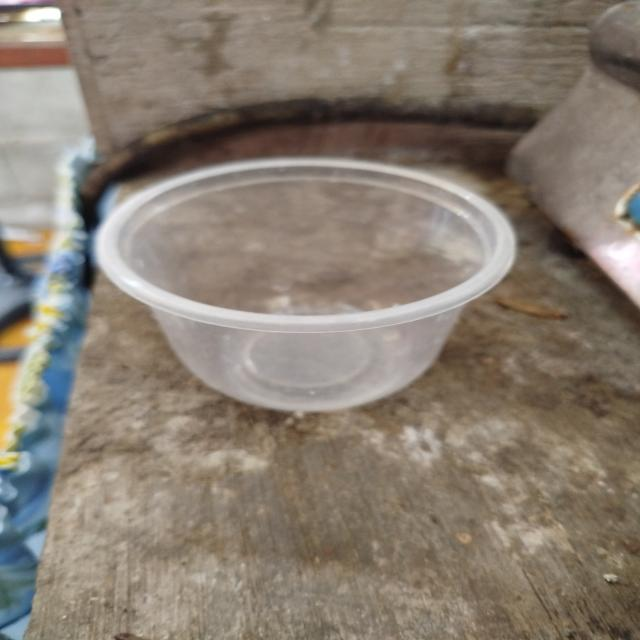plastic: (79, 138, 540, 430)
